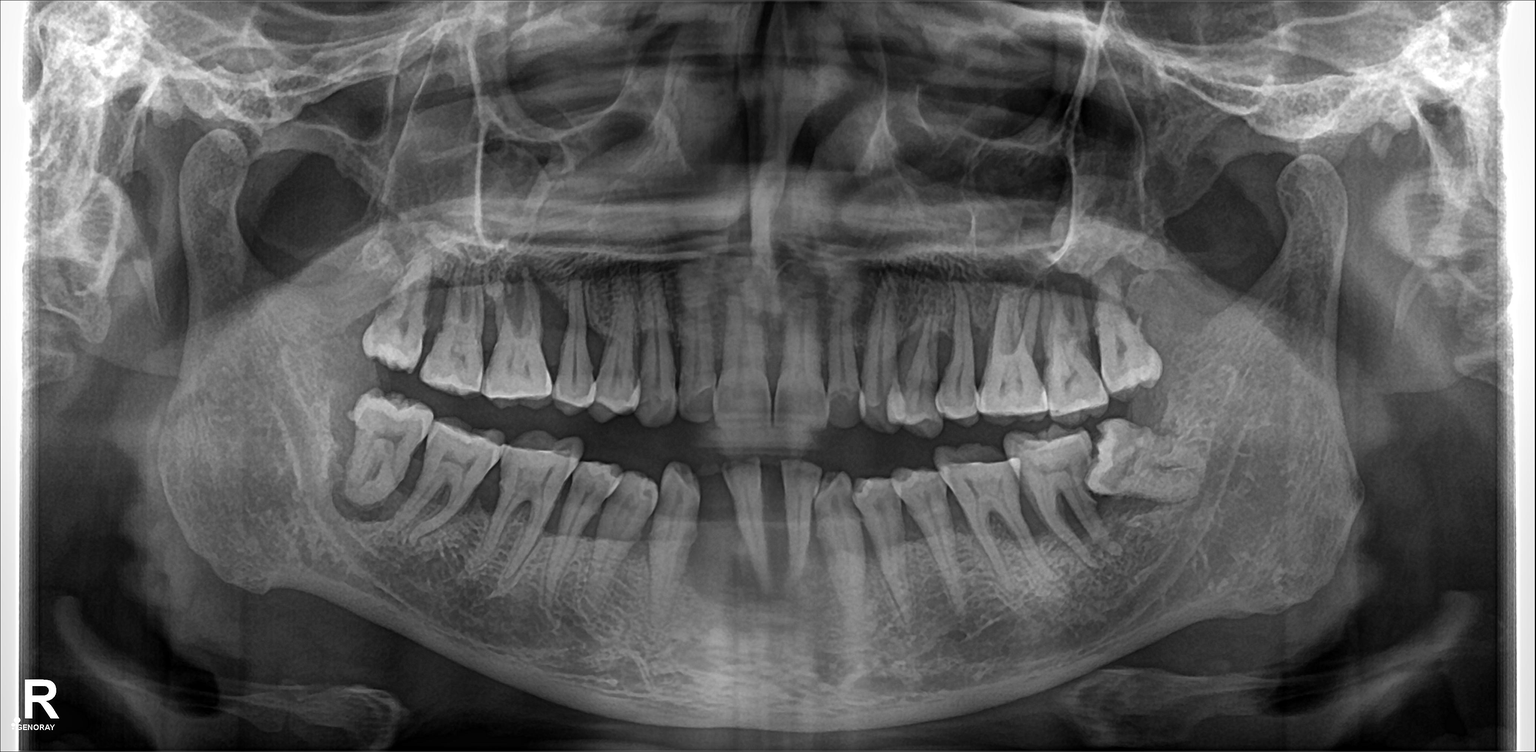Dental Caries: (685, 380, 715, 417)
Impacted Third Molar: (1099, 417, 1207, 495)
Missing Tooth: (702, 467, 737, 591)
Periapical Lesion: (326, 421, 420, 521)
